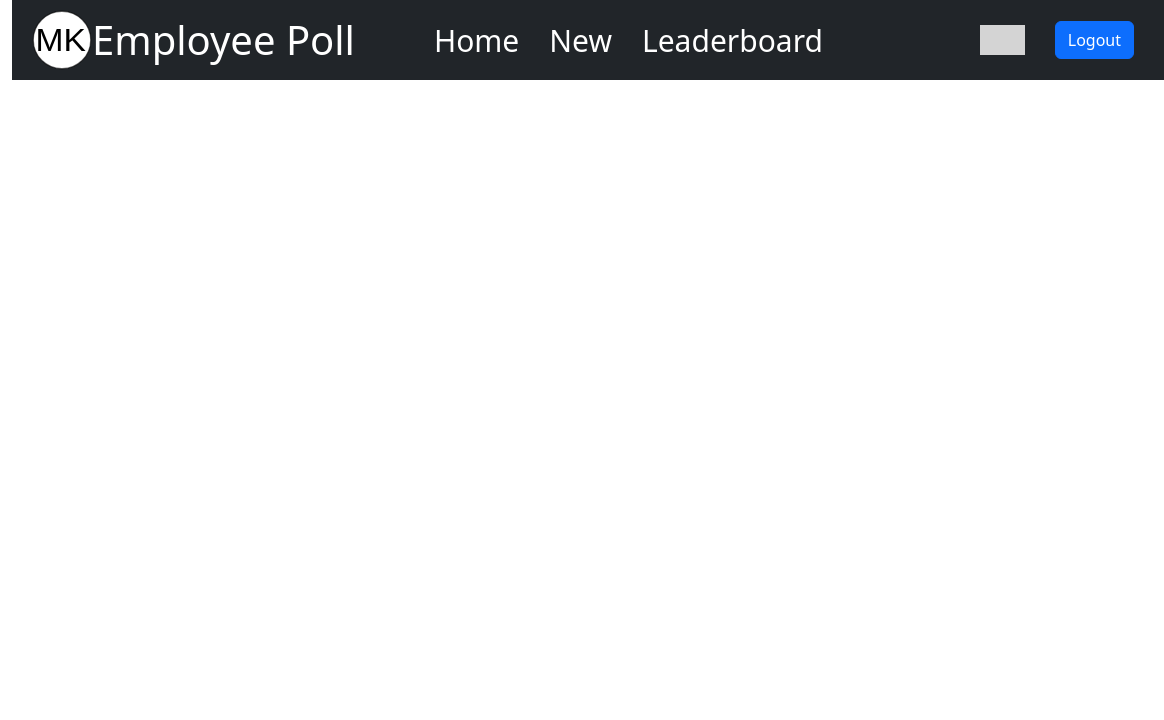
NewQuestion › check if the user click at logout, it will move to login page
Click the button "Logout" at (1094, 40), box left=1055, top=21, right=1134, bottom=59
(page scrolled)
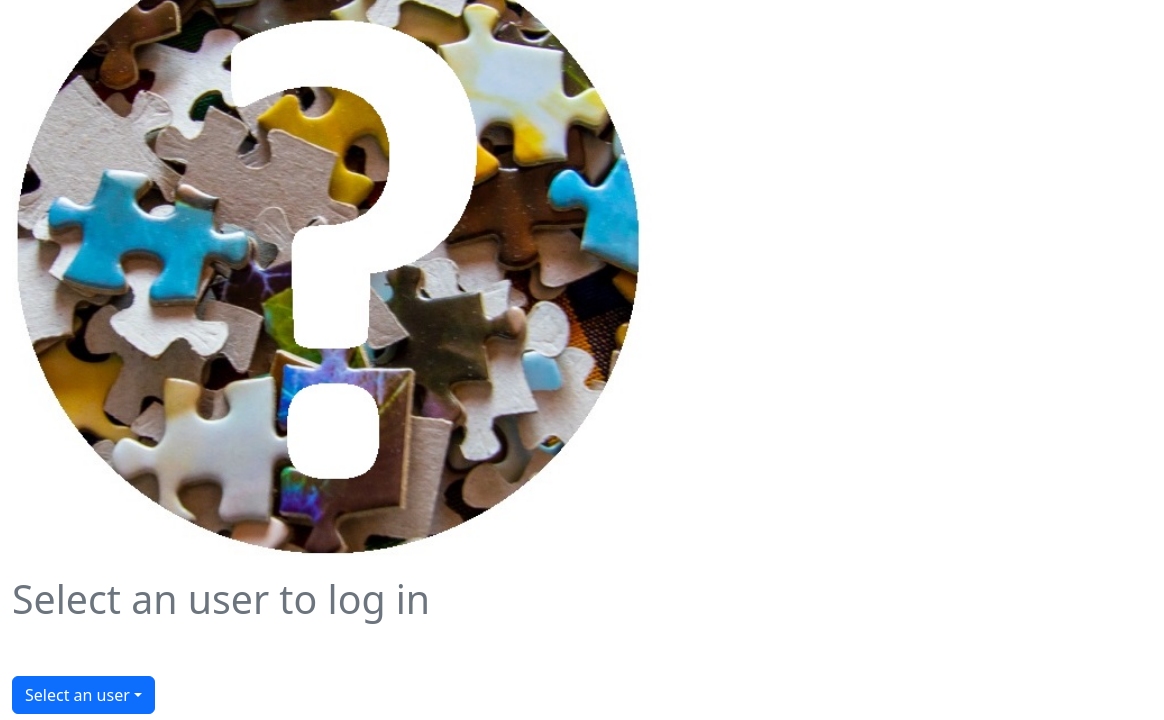
Check: the button reads "Select an user", box left=12, top=676, right=155, bottom=714
